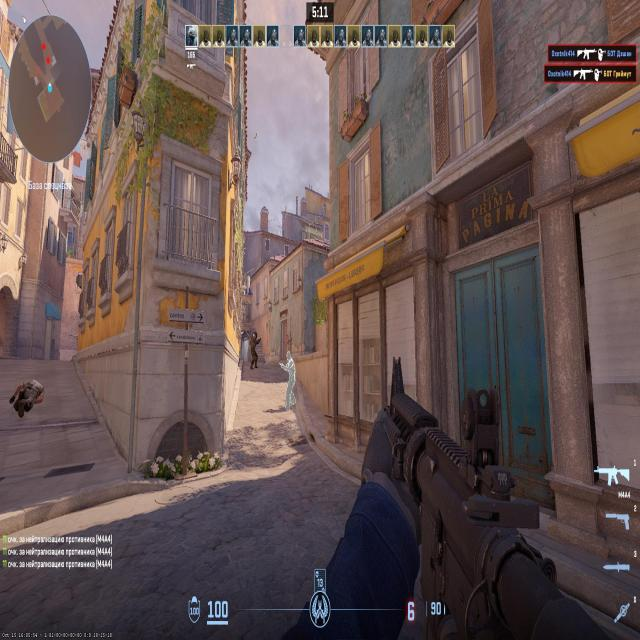CT: (251, 330, 258, 364)
CT_heat: (254, 333, 257, 340)
